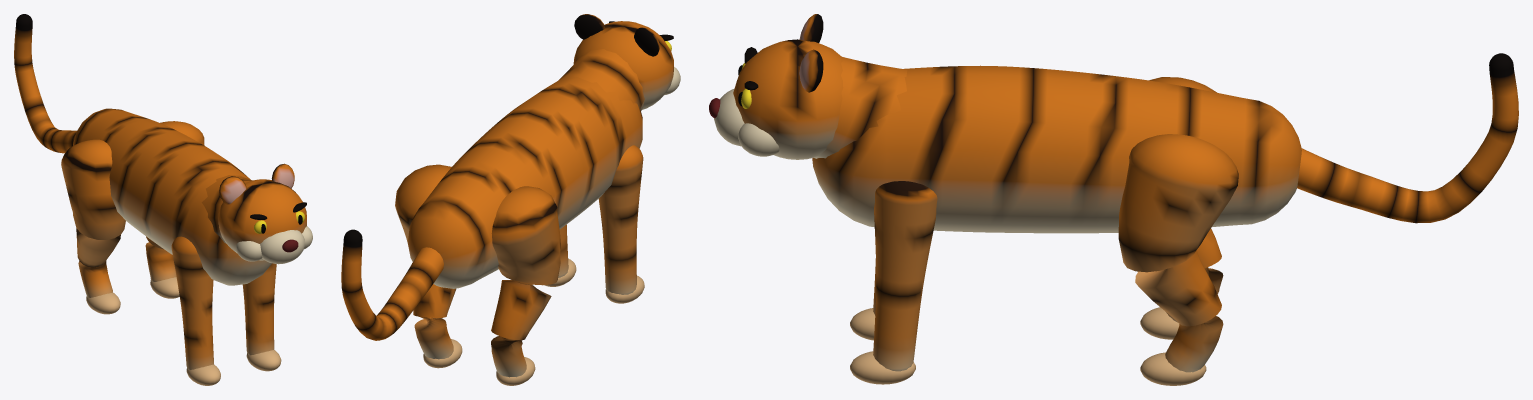
The model's file is tiger.glb.
3 renders of one model, left to right at view 1: azimuth 30°, elevation 25°; view 2: azimuth 150°, elevation 25°; view 3: azimuth 270°, elevation 25°, orthographic. The views are drawn at different scales.
Visible parts, largest first — view 1: tiger; view 2: tiger; view 3: tiger.
Boxes of the visible parts, box(x1,y1,x2,y2) form: tiger: box(14, 14, 312, 385); tiger: box(341, 14, 680, 385); tiger: box(709, 14, 1518, 385).
Bounding box in the file's own units: 0.6607 × 1.05 × 2.37.
